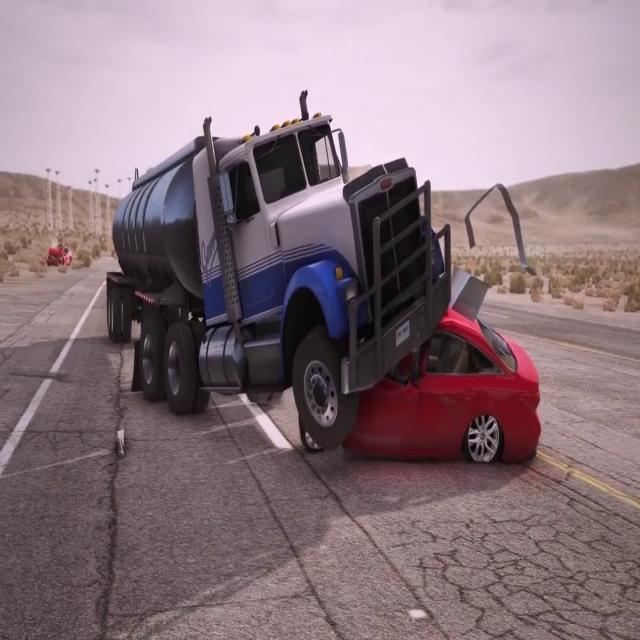accident: (102, 96, 554, 484)
